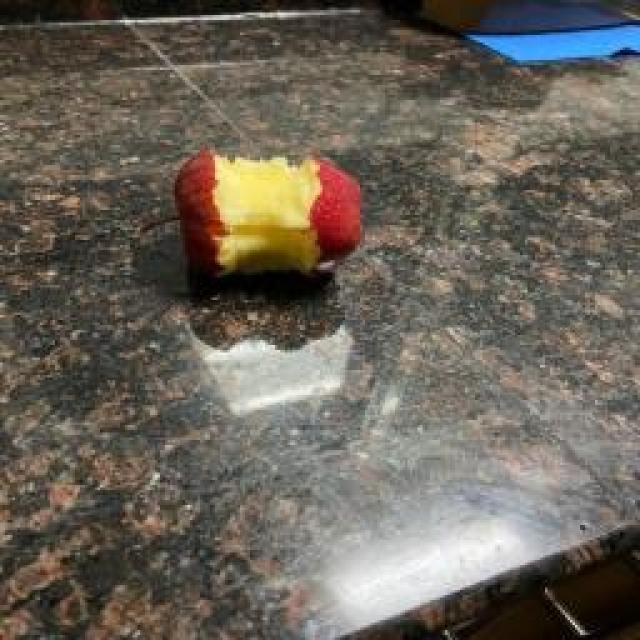Apple: (175, 149, 361, 278)
